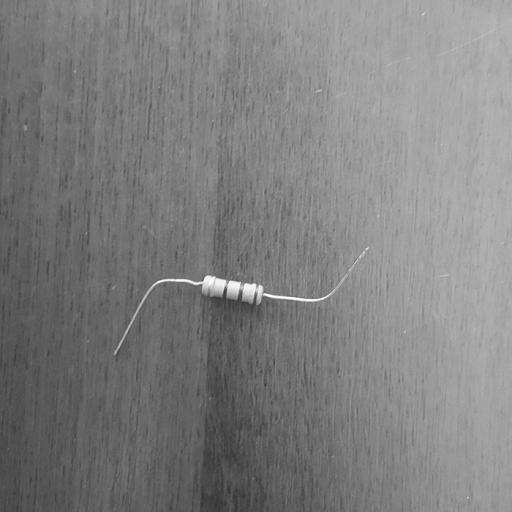RESISTOR: (172, 255, 314, 340)
